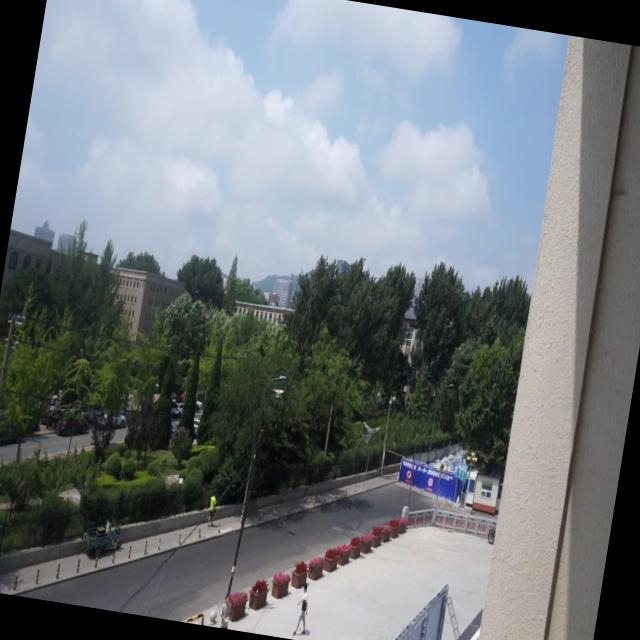drone: (268, 384, 288, 404)
